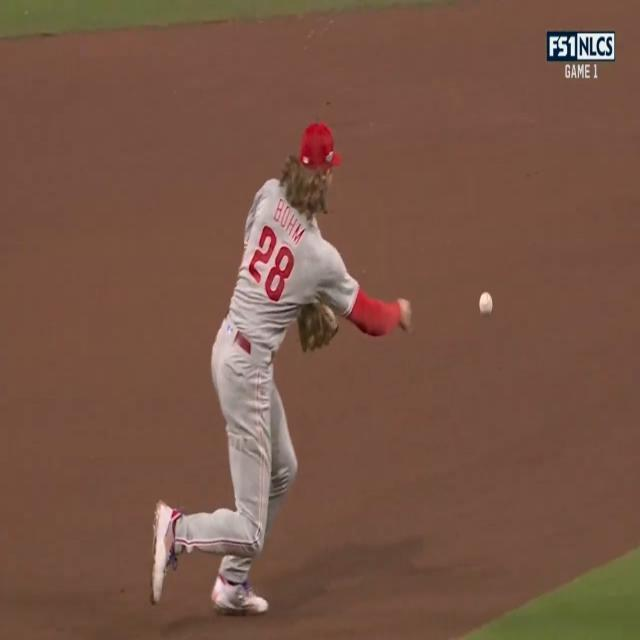sports ball: (474, 291, 496, 317)
